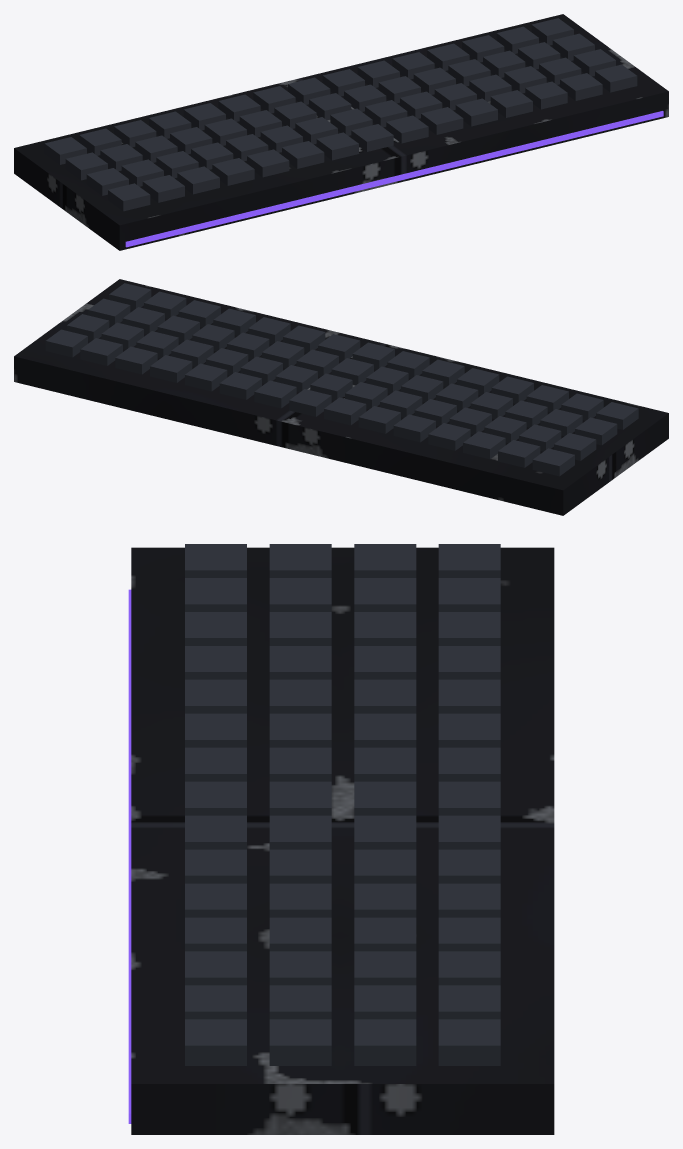
File: Tech_Keyboard.001.gltf
The picture shows the model from 3 angles, top to bottom: view 1: azimuth 30°, elevation 25°; view 2: azimuth 150°, elevation 25°; view 3: azimuth 270°, elevation 25°; orthographic projection. The views are drawn at different scales.
Parts seen in each view (by area): view 1: Tech_Keyboard.001; view 2: Tech_Keyboard.001; view 3: Tech_Keyboard.001.
Boxes of the visible parts, x1,y1,x2,y2 form: Tech_Keyboard.001: (14,14,668,250); Tech_Keyboard.001: (14,279,668,515); Tech_Keyboard.001: (128,544,554,1134).
Size of the model in its own units: 0.45 by 0.028 by 0.151.
3 materials, 1 textured.
